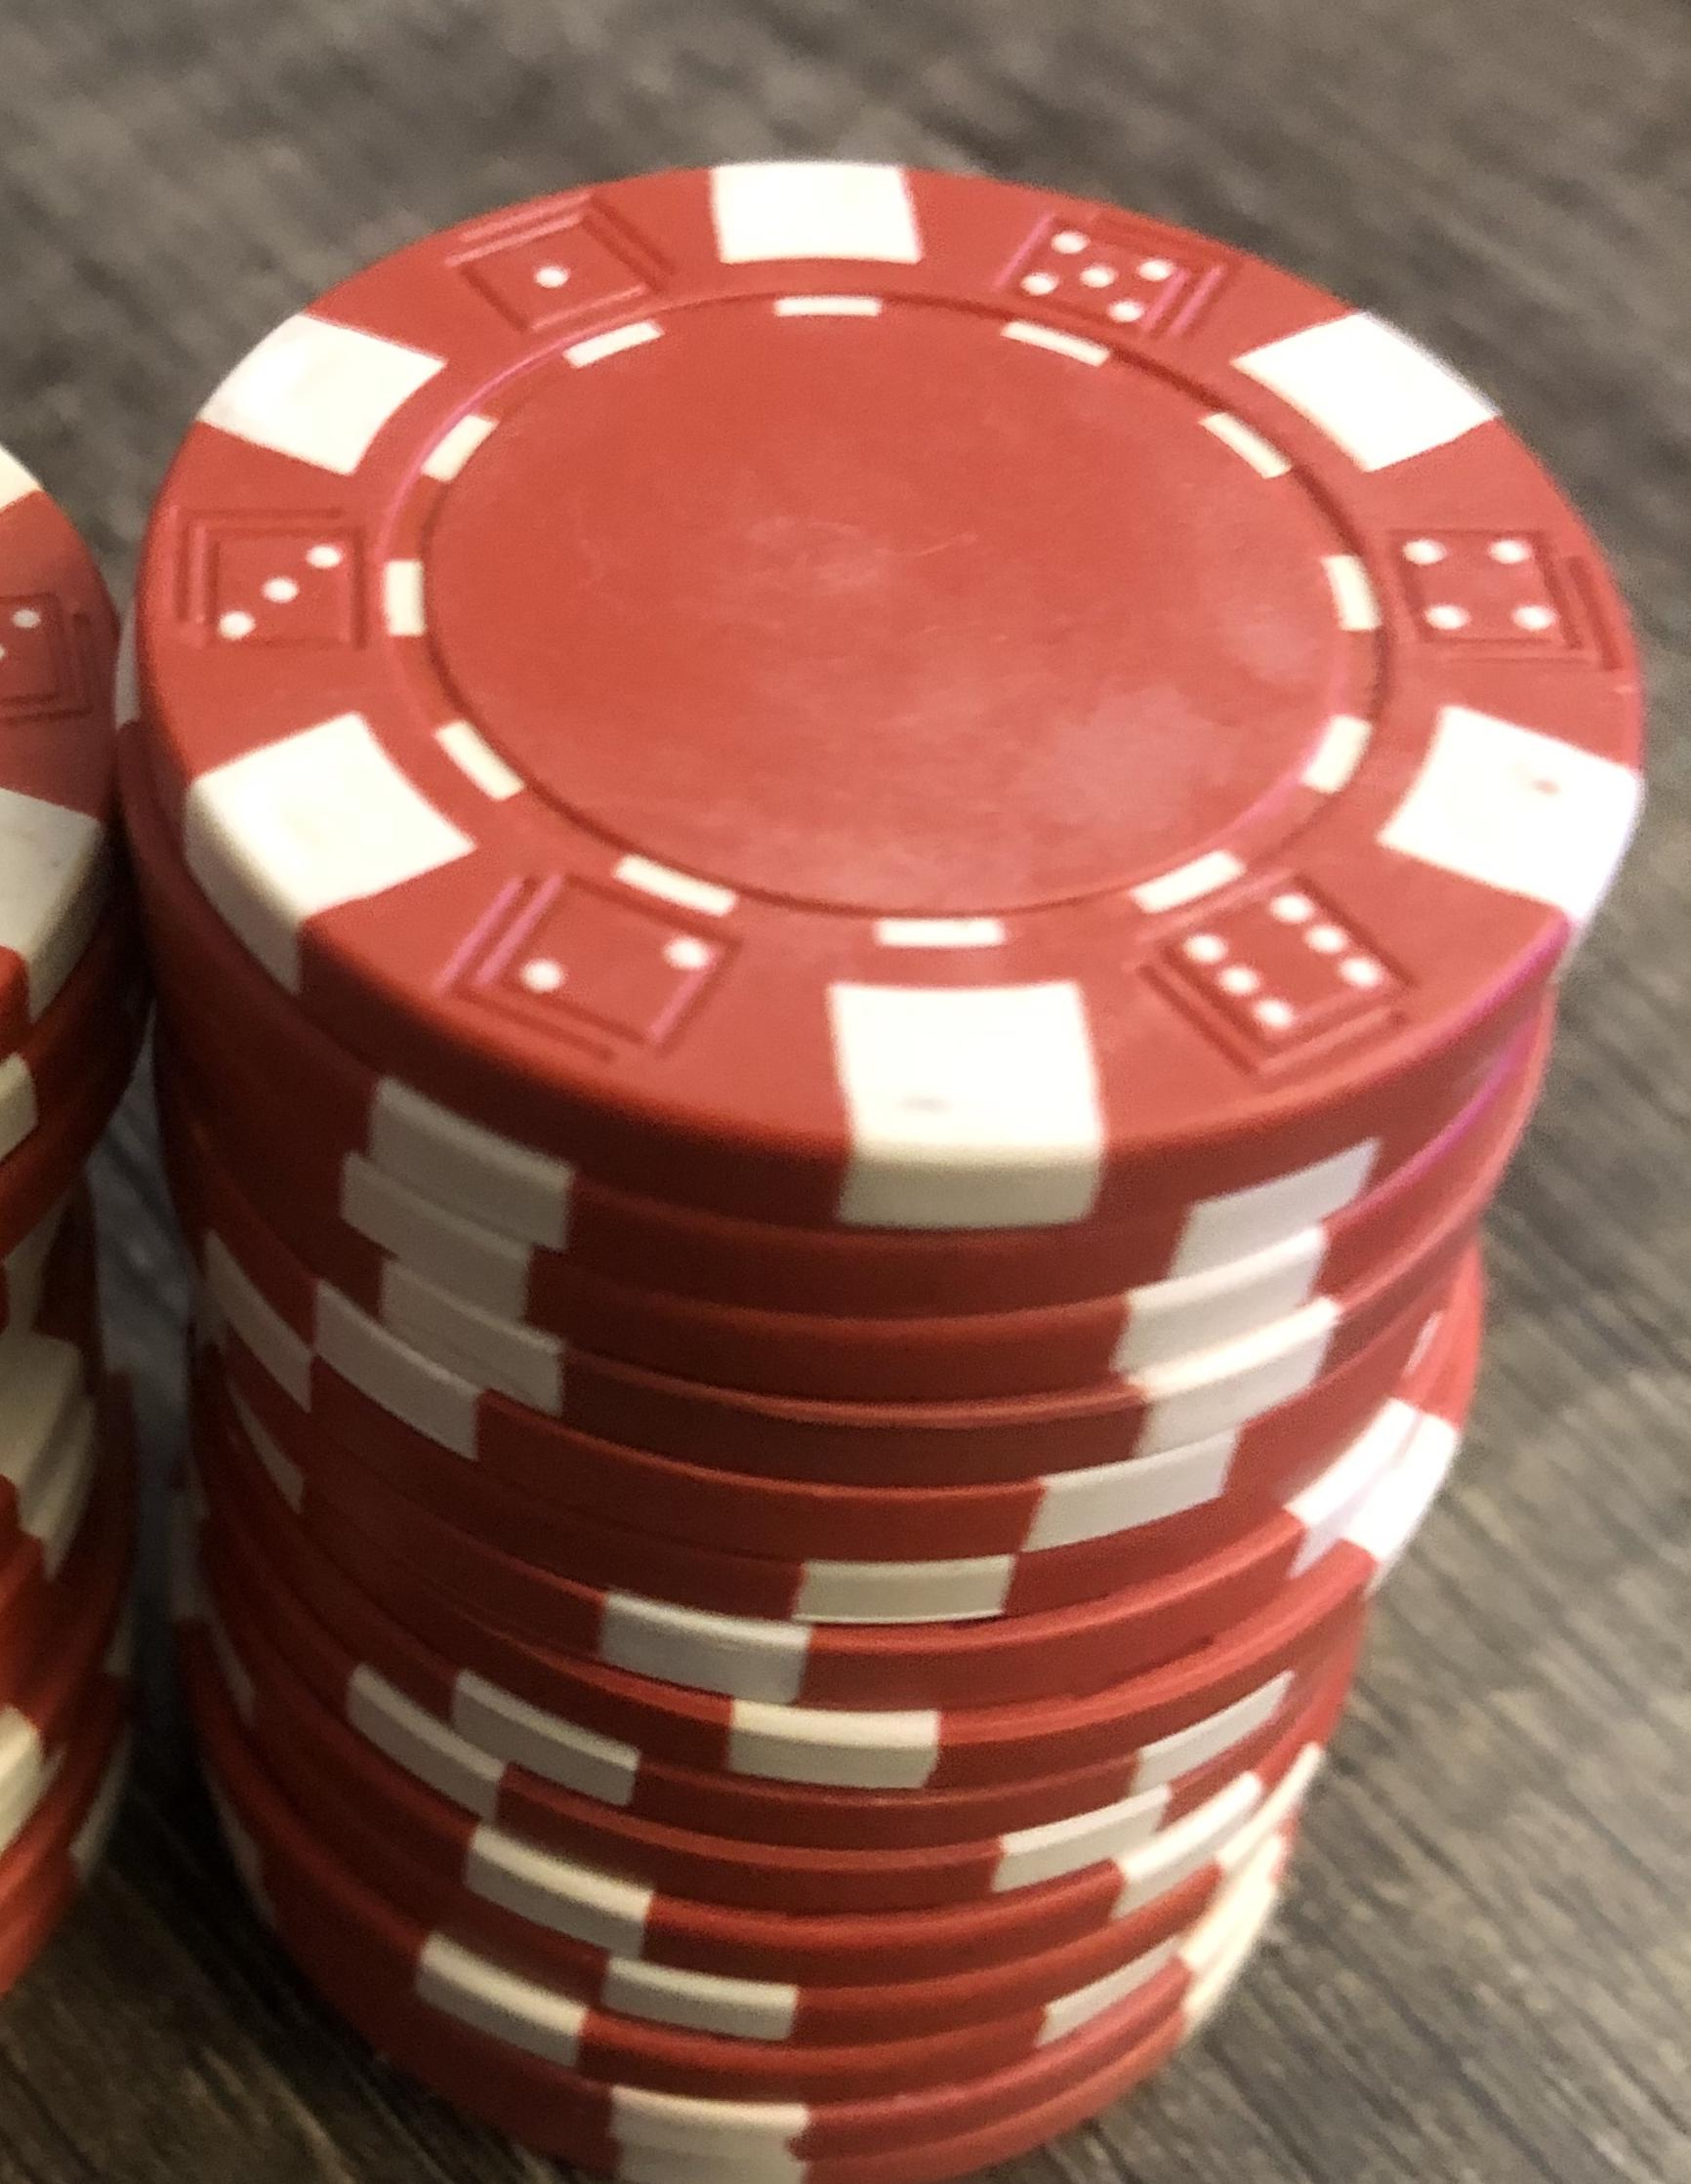Chip: (2, 2, 1691, 2184)
